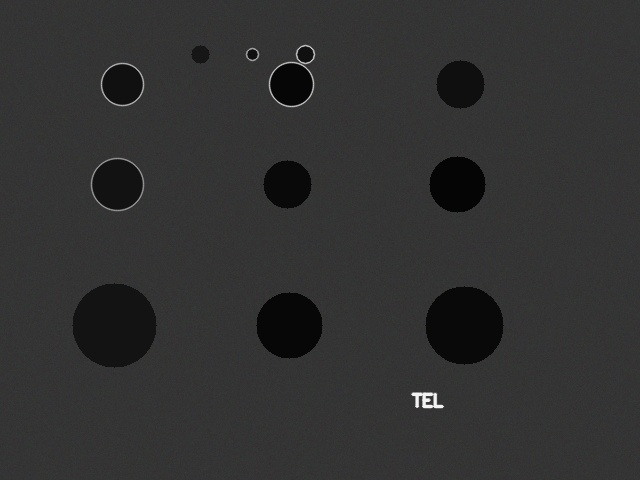hole: (72, 283, 156, 367), (425, 286, 503, 364), (256, 292, 322, 358), (429, 156, 485, 212), (91, 158, 143, 210), (436, 60, 484, 108), (263, 160, 311, 208), (269, 62, 313, 106), (101, 63, 143, 105), (191, 45, 209, 63), (296, 45, 314, 63), (246, 48, 258, 60)
